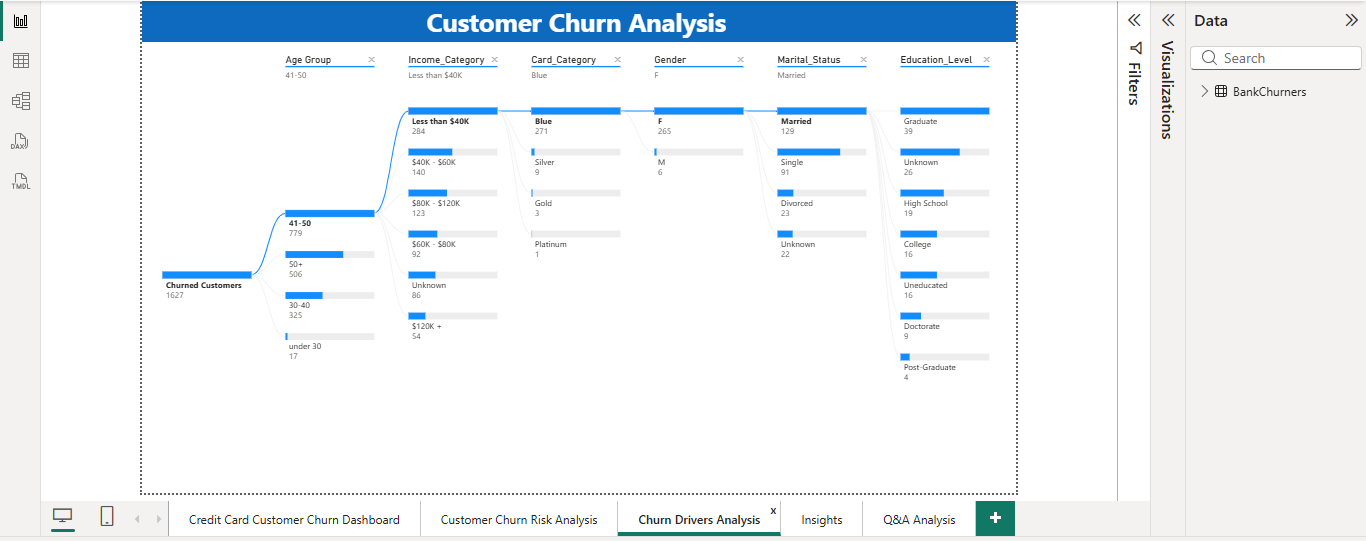

This screenshot's page, from the dashboard's own definition file:
{"tool":"powerbi","page":{"name":"Churn Drivers Analysis","canvas":[1280,720],"ordinal":2},"visuals":[{"type":"decompositionTreeVisual","fields":{"Analyze":["BankChurners.Churned Customers"],"ExplainBy":["BankChurners.Age Group","BankChurners.Income_Category","BankChurners.Card_Category","BankChurners.Gender","BankChurners.Marital_Status","BankChurners.Education_Level"]},"box":[0,60,1280.5,660],"z":0},{"type":"shape","box":[0,0,1280.2,60.5],"z":1000},{"type":"textbox","box":[411.7,0,456.6,60],"z":2000}]}

Visuals, with their boxes on the page's 1280x720 design canvas (x1, y1, x2, y2). These are canvas units, not pixel positions in the 1366x541 screenshot, which may show the page scaled, cropped or inside an application window:
decompositionTreeVisual - BankChurners.Churned Customers x BankChurners.Age Group: 0 60 1280 720
shape: 0 0 1280 60
textbox: 412 0 868 60
